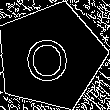O_N: (26, 29, 75, 83)
